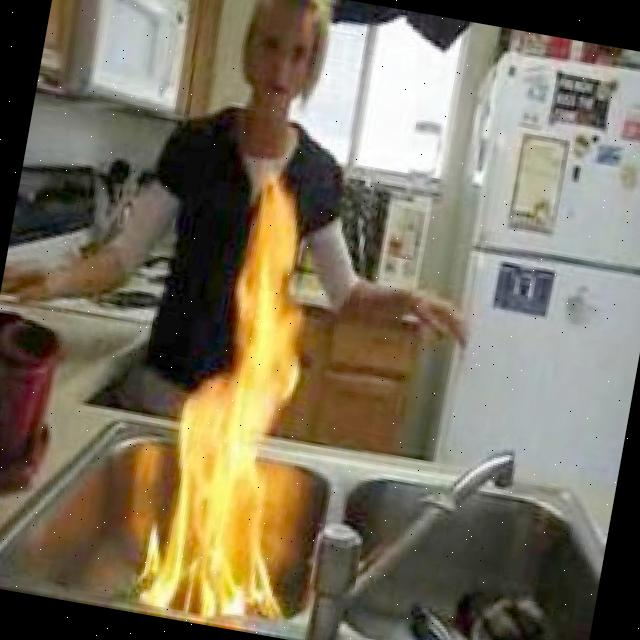fire: (141, 173, 346, 624)
